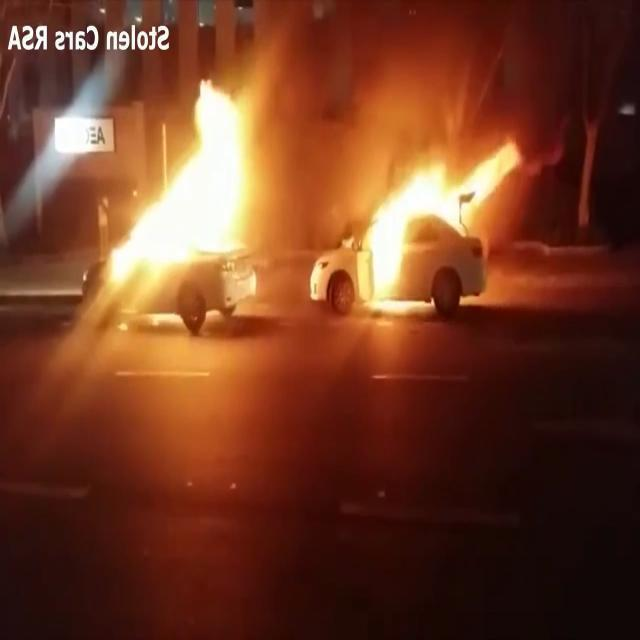fire: (332, 137, 522, 286), (108, 86, 250, 266)
